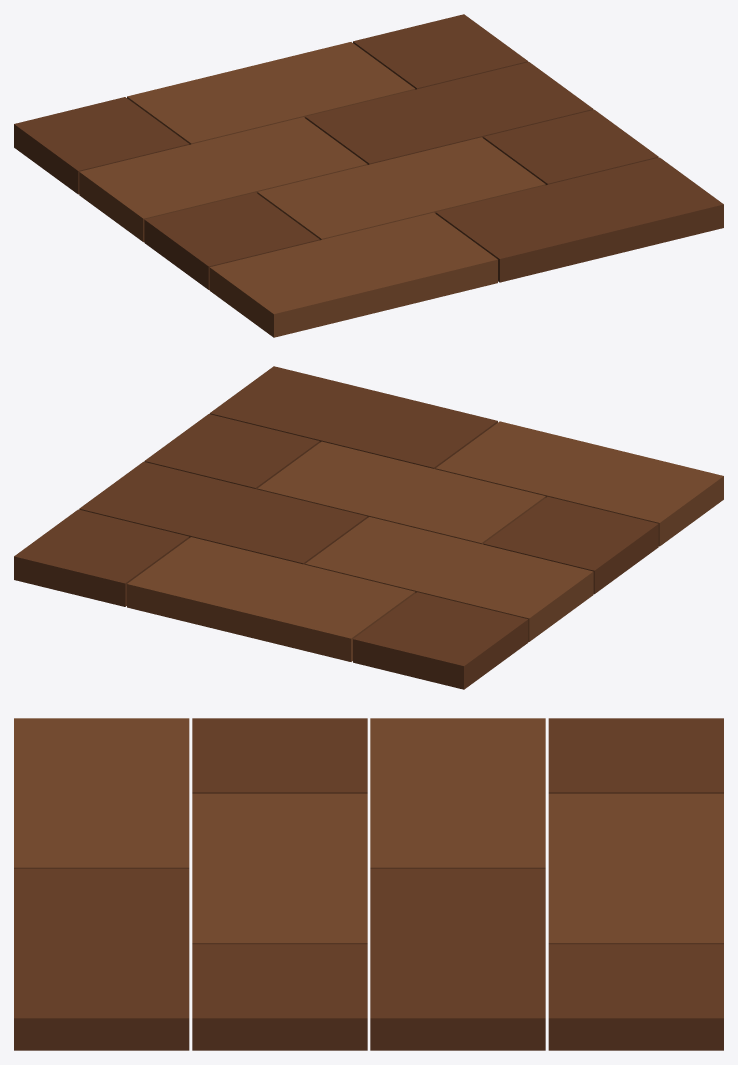
The model's file is floorParquetWalnut.glb.
3 renders of one model, top to bottom at view 1: azimuth 30°, elevation 25°; view 2: azimuth 150°, elevation 25°; view 3: azimuth 270°, elevation 25°, orthographic. The views are drawn at different scales.
Visible parts, largest first — view 1: floorParquetWalnut; view 2: floorParquetWalnut; view 3: floorParquetWalnut.
Part boxes in pixels (x1,y1,x2,y2): floorParquetWalnut: [14, 14, 723, 337]; floorParquetWalnut: [14, 366, 723, 689]; floorParquetWalnut: [14, 718, 723, 1050].
Size of the model in its own units: 1 by 0.05 by 1.
Materials: 1 (1 with a texture image).
